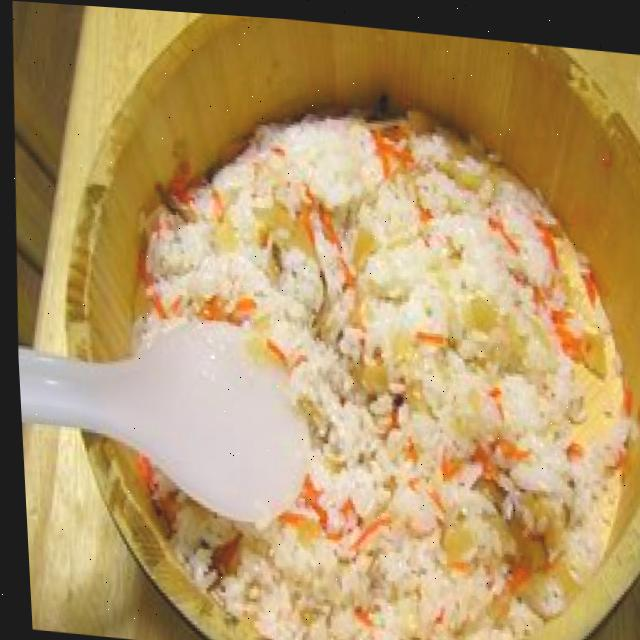寿司卷物: (25, 1, 640, 640)
